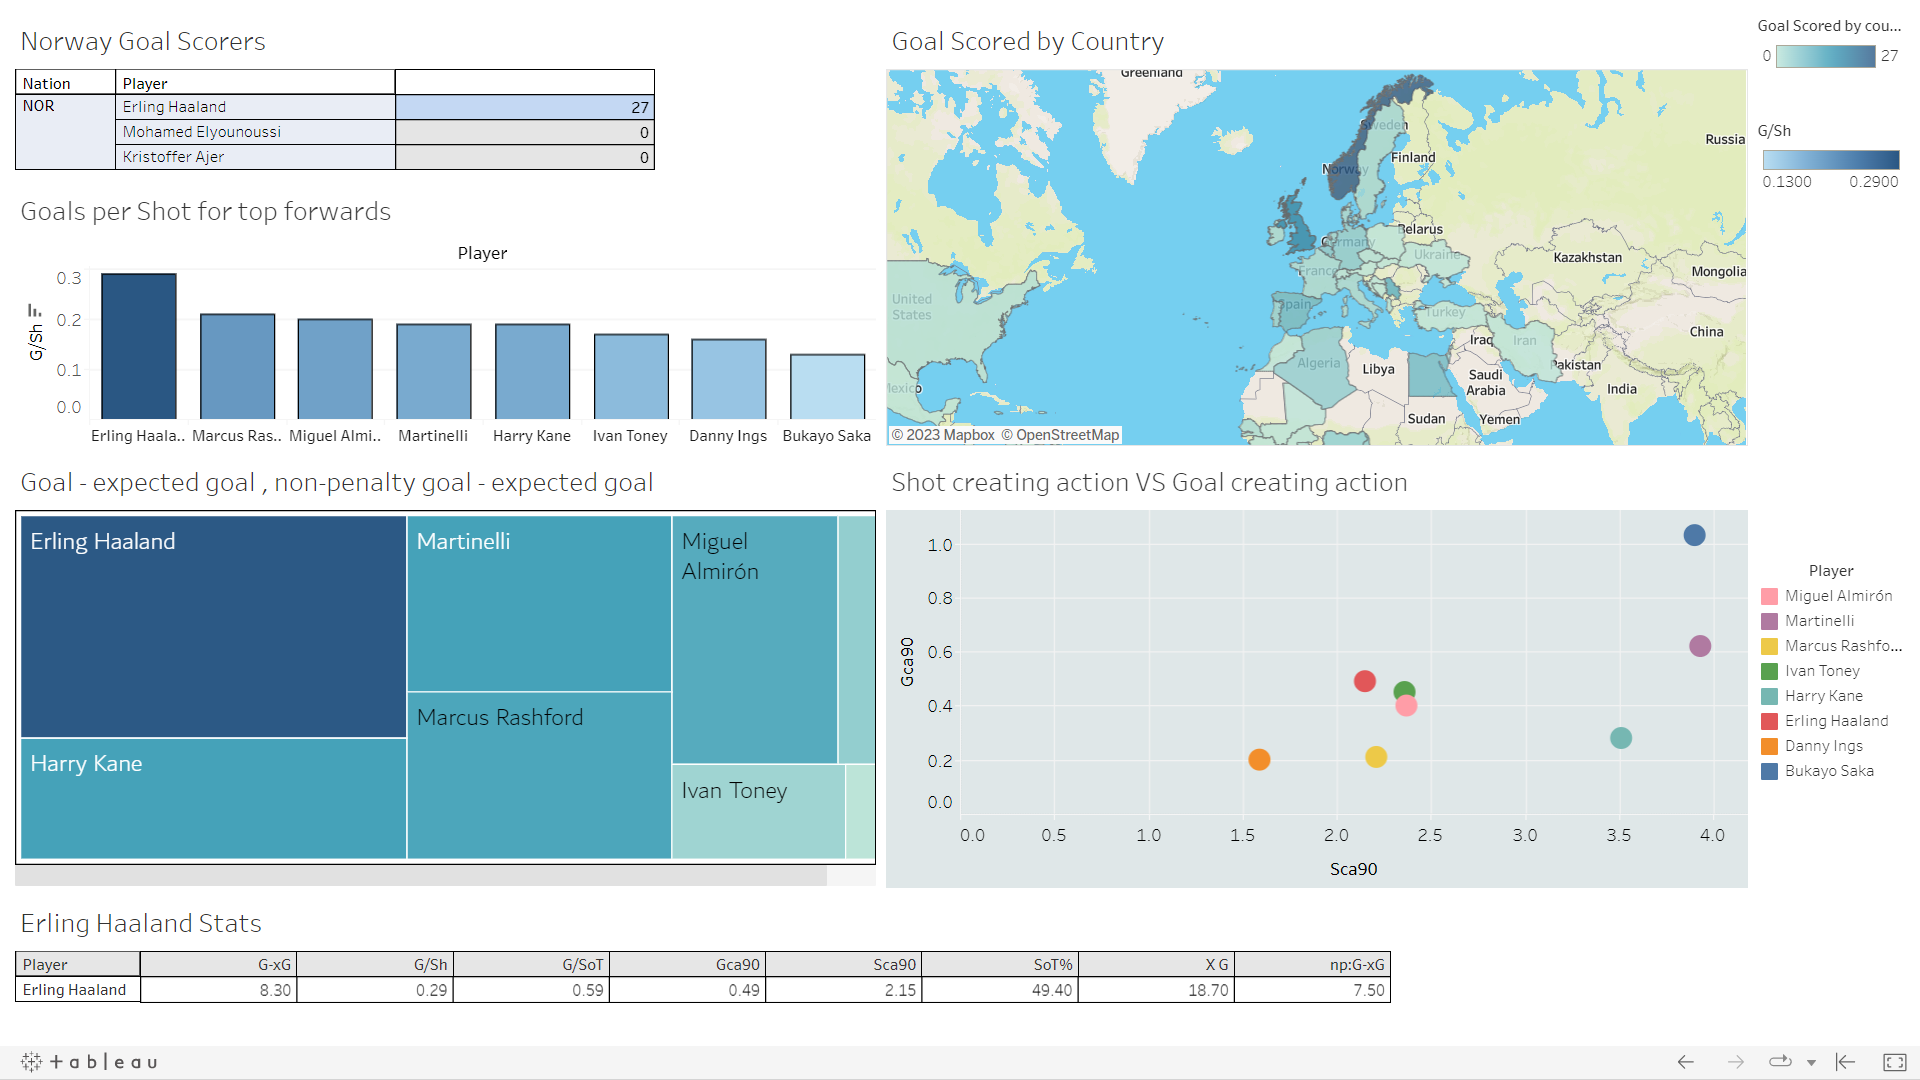

The page's visual inventory and layout, read from the dashboard file:
{"tool":"tableau","page":{"name":"Dashboard 1","canvas":[1000,1000],"units":"permille","ordinal":0},"visuals":[{"type":"worksheet","title":"Sheet 2","mark":"Square","rows":["Nation","Player"],"box":[4.8,8.8,457.1,162.5]},{"type":"worksheet","title":"Sheet 1","mark":"Automatic","box":[462,8.8,457.2,422.6]},{"type":"legend","title":"Sheet 1","param":"[federated.0aq0sk30jv52fq1eubsq80mbkt6r].[sum:GoalScored:qk]","box":[919.1,8.8,76,92.2]},{"type":"legend","title":"Sheet 4","param":"[federated.16jow6f1qqh6x11e7seor1aihttj].[sum:G/Sh:qk]","box":[919.1,101,76,386.4]},{"type":"worksheet","title":"Sheet 4","mark":"Automatic","rows":["G/Sh"],"cols":["Player"],"box":[4.8,171.2,457.1,260.2]},{"type":"worksheet","title":"Sheet 5","mark":"Automatic","box":[4.8,431.4,457.1,422.6]},{"type":"worksheet","title":"Sheet 6","mark":"Automatic","rows":["GCA90"],"cols":["SCA90"],"box":[462,431.4,457.2,422.6]},{"type":"legend","title":"Sheet 6","param":"[federated.16jow6f1qqh6x11e7seor1aihttj].[none:Player:nk]","box":[919.1,487.4,76,217.3]},{"type":"worksheet","title":"Sheet 3","mark":"Automatic","rows":["Player"],"box":[4.8,854,990.3,137.2]}]}

Visuals, with their boxes on the dashboard's canvas, which has no fixed pixel size, in thousandths of its width and height (x1, y1, x2, y2). These are canvas units, not pixel positions in the 1920x1080 screenshot, which may show the page scaled, cropped or inside an application window:
"Sheet 2" worksheet (Square marks): box=[5, 9, 462, 171]
"Sheet 1" worksheet: box=[462, 9, 919, 431]
"Sheet 1" legend: box=[919, 9, 995, 101]
"Sheet 4" legend: box=[919, 101, 995, 487]
"Sheet 4" worksheet: box=[5, 171, 462, 431]
"Sheet 5" worksheet: box=[5, 431, 462, 854]
"Sheet 6" worksheet: box=[462, 431, 919, 854]
"Sheet 6" legend: box=[919, 487, 995, 705]
"Sheet 3" worksheet: box=[5, 854, 995, 991]
